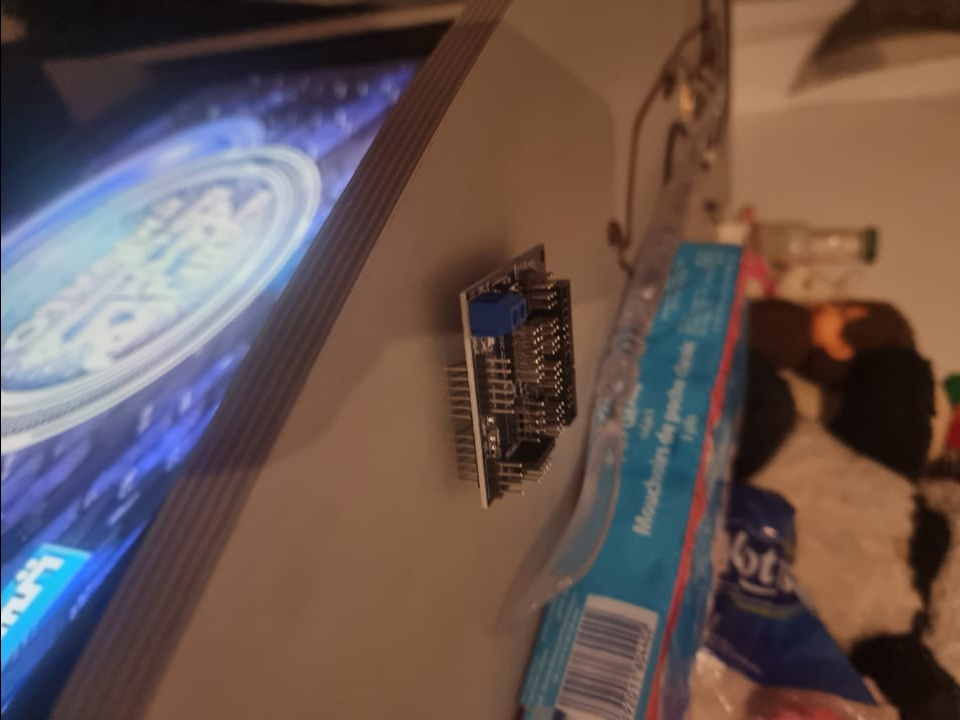5V EXPANSION: (455, 243, 580, 511)
